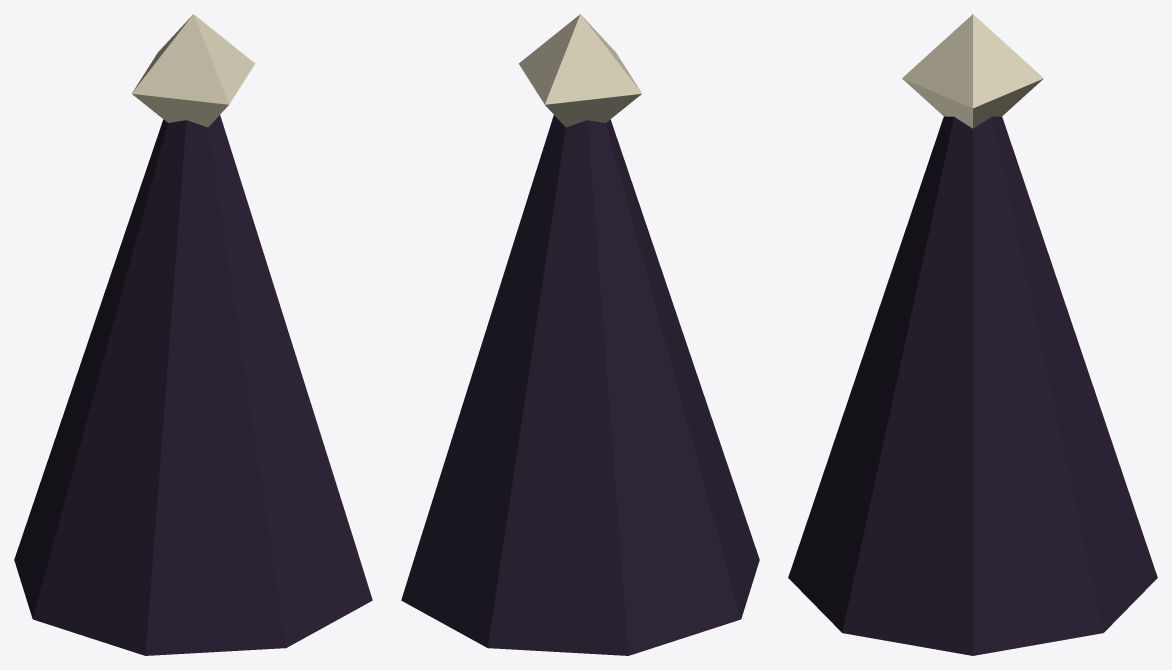
Rendered from wraith.obj.
3 renders of one model, left to right at view 1: azimuth 30°, elevation 25°; view 2: azimuth 150°, elevation 25°; view 3: azimuth 270°, elevation 25°, orthographic.
Parts seen in each view (by area): view 1: wraith_shroud, wraith_mask; view 2: wraith_shroud, wraith_mask; view 3: wraith_shroud, wraith_mask.
Part boxes in pixels (bbox=[...]): wraith_shroud: bbox=[14, 115, 372, 655]; wraith_mask: bbox=[132, 14, 255, 127]; wraith_shroud: bbox=[401, 115, 759, 655]; wraith_mask: bbox=[518, 14, 641, 127]; wraith_shroud: bbox=[788, 116, 1157, 655]; wraith_mask: bbox=[902, 14, 1043, 128].
Bounding box in the file's own units: 1.04 × 1.75 × 1.04.
